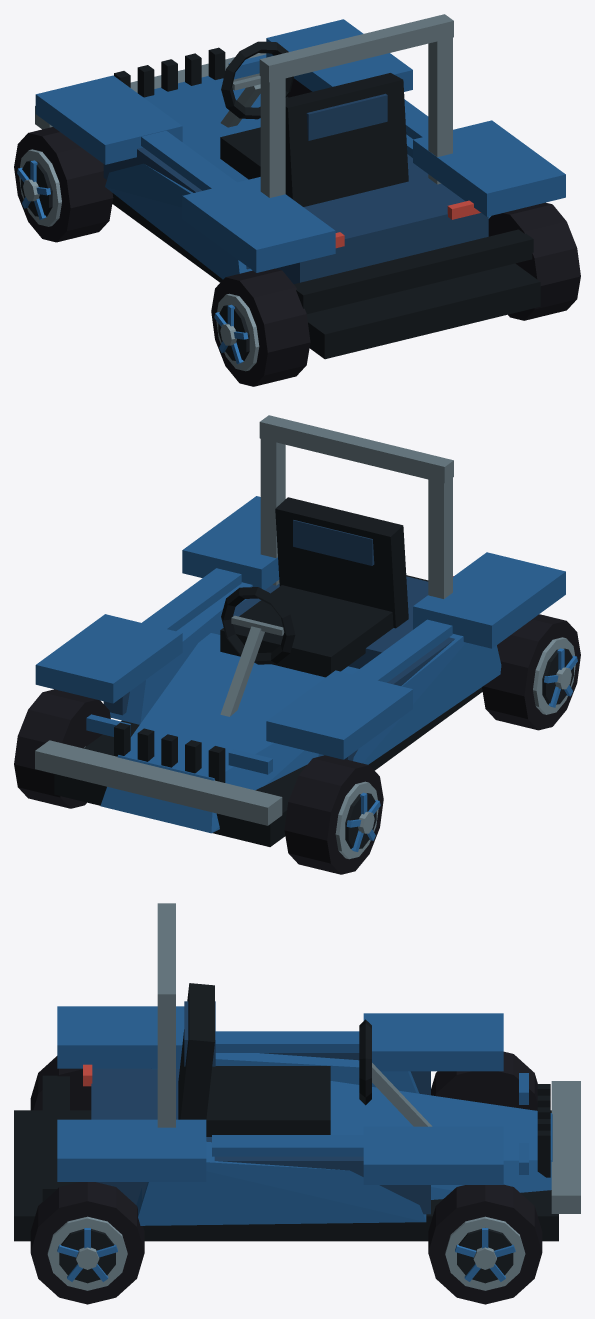
File: kart.glb
3 views of the same model, one above another, from view 1: azimuth 30°, elevation 25°; view 2: azimuth 150°, elevation 25°; view 3: azimuth 270°, elevation 25° (orthographic).
Visible parts, largest first — view 1: chassis, wheel-rear-left, wheel-front-left, wheel-rear-right; view 2: chassis, wheel-front-left, wheel-rear-left, wheel-front-right; view 3: chassis, wheel-rear-right, wheel-front-right, wheel-front-left, wheel-rear-left.
Part boxes in pixels (bbox=[...]): chassis: bbox=[35, 14, 565, 359]; wheel-rear-left: bbox=[211, 268, 310, 386]; wheel-front-left: bbox=[14, 127, 113, 242]; wheel-rear-right: bbox=[488, 202, 580, 320]; chassis: bbox=[35, 415, 565, 846]; wheel-front-left: bbox=[284, 755, 383, 874]; wheel-rear-left: bbox=[482, 614, 580, 730]; wheel-front-right: bbox=[14, 689, 110, 808]; chassis: bbox=[14, 903, 580, 1241]; wheel-rear-right: bbox=[30, 1182, 144, 1304]; wheel-front-right: bbox=[428, 1184, 542, 1304]; wheel-front-left: bbox=[431, 1051, 537, 1110]; wheel-rear-left: bbox=[30, 1056, 91, 1110].
Bounding box in the file's own units: 2.15 × 1.67 × 3.08.
